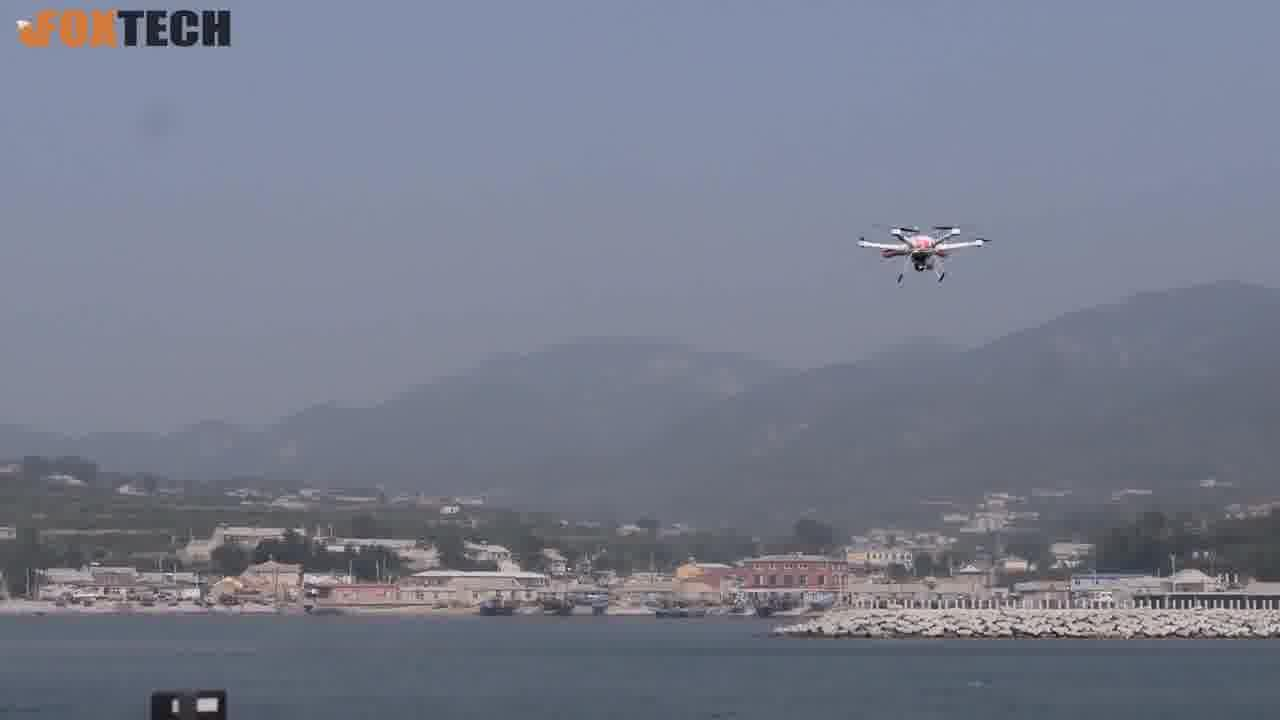drone: (855, 213, 1011, 291)
